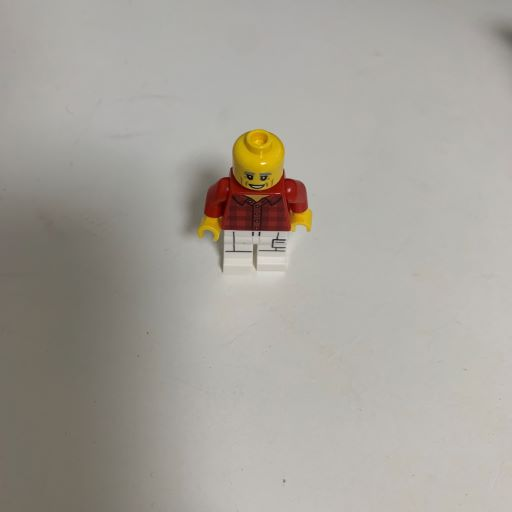human: (186, 121, 327, 291)
